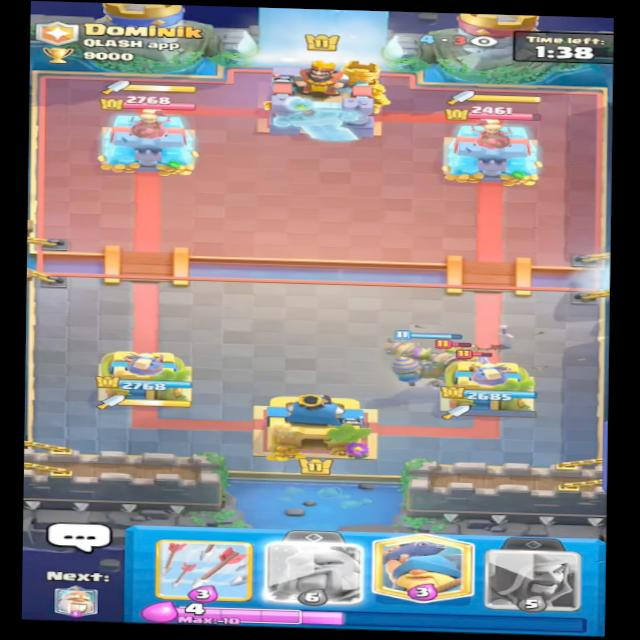Goblin: (434, 330, 474, 360)
